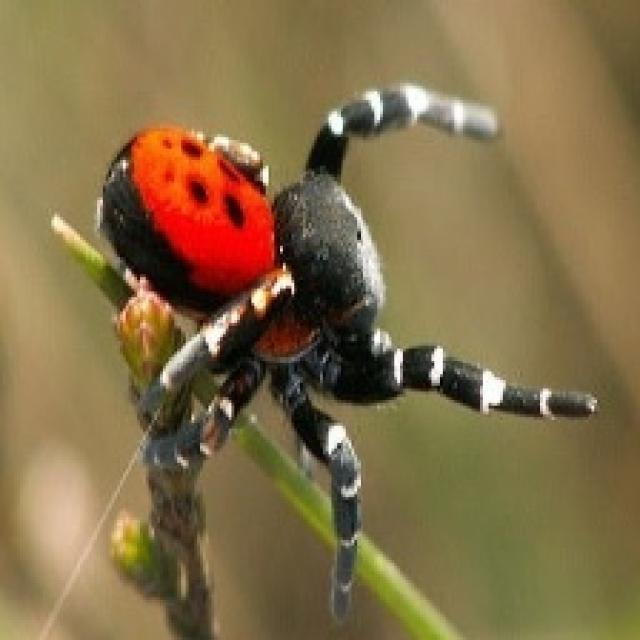Non venomous spider: (35, 46, 509, 512)
